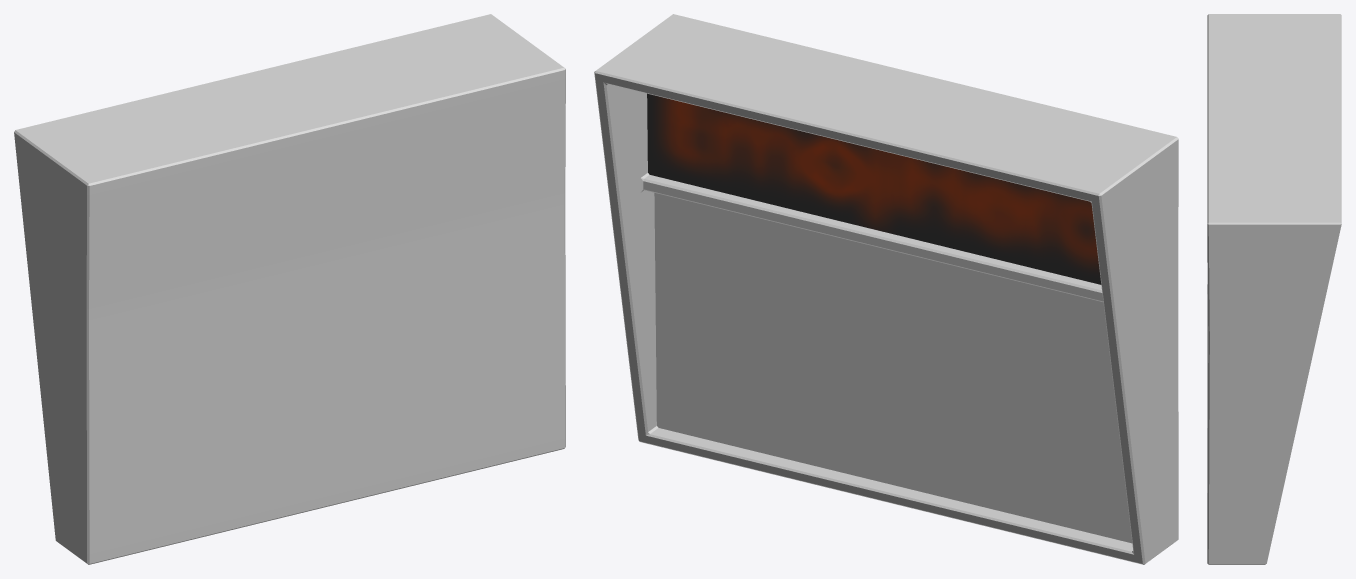
The model's file is Screen.fbx.
The picture shows the model from 3 angles, left to right: view 1: azimuth 30°, elevation 25°; view 2: azimuth 150°, elevation 25°; view 3: azimuth 270°, elevation 25°; orthographic projection. The views are drawn at different scales.
Visible parts, largest first — view 1: Screen; view 2: Screen; view 3: Screen.
Boxes of the visible parts, x1,y1,x2,y2 form: Screen: [14, 14, 565, 564]; Screen: [594, 14, 1178, 564]; Screen: [1207, 14, 1341, 564].
Bounding box in the file's own units: 92 × 70 × 24.94.
